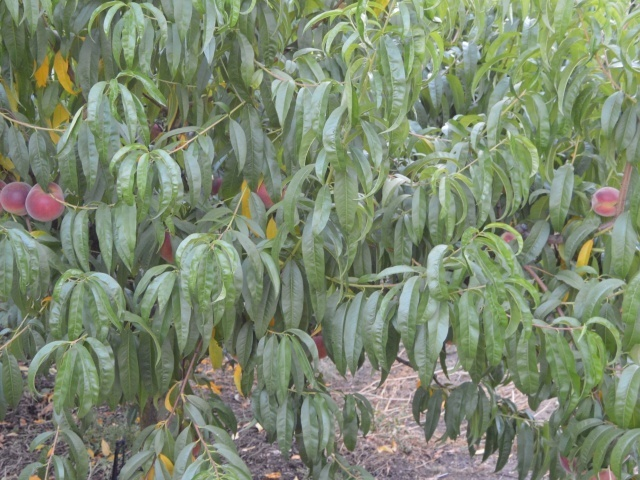peach: (21, 178, 66, 226), (587, 182, 629, 221), (1, 176, 36, 221), (147, 228, 181, 270), (305, 330, 335, 367), (250, 177, 282, 208)
